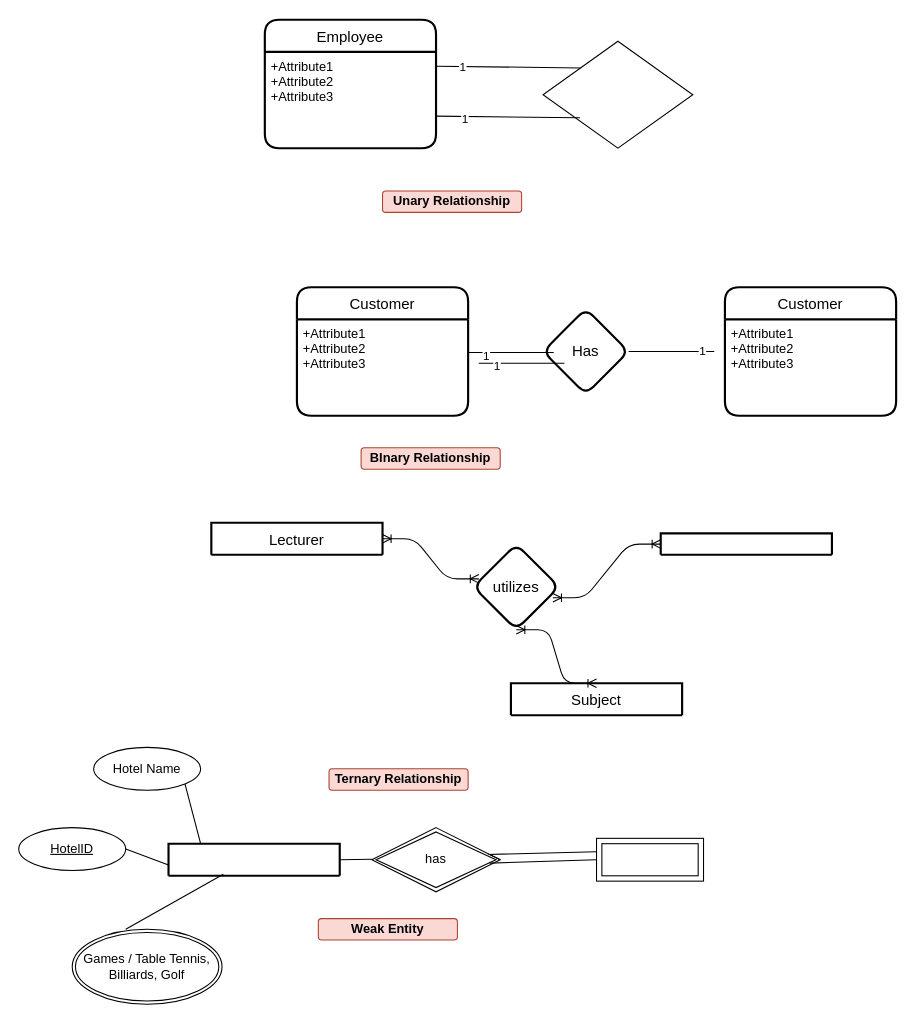
The diagram is 916 pixels wide and 1023 high, and some of its shapes have lost their labels. Here are the shapes that lost their labels. From the top down, the box of each, then its label:
(542, 40, 693, 148): Marries
(659, 532, 832, 555): Course
(167, 842, 340, 876): Hotel
(595, 837, 704, 881): Room
